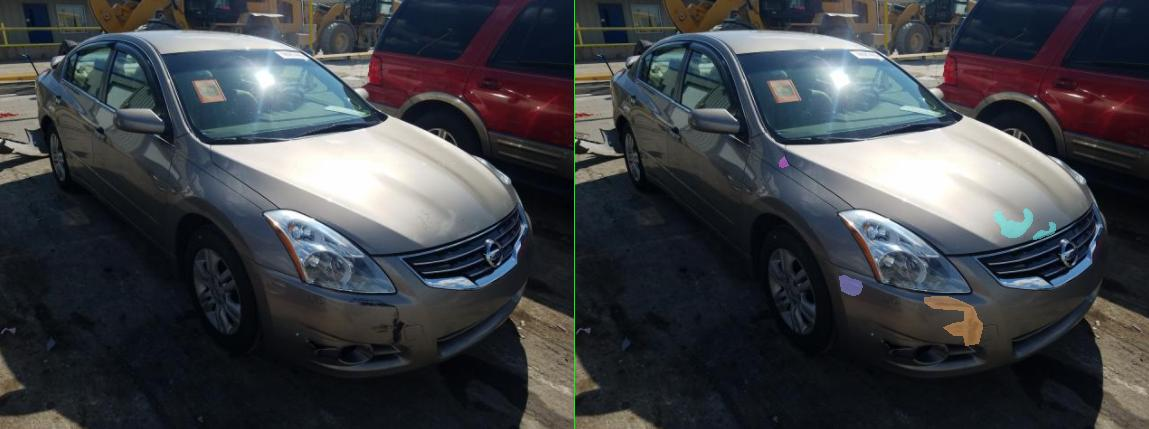Dent: (408, 156, 426, 167)
Flaking: (837, 208, 915, 237), (917, 222, 961, 239)
Paint chip: (699, 296, 815, 345)
Scratch: (528, 275, 574, 295)
